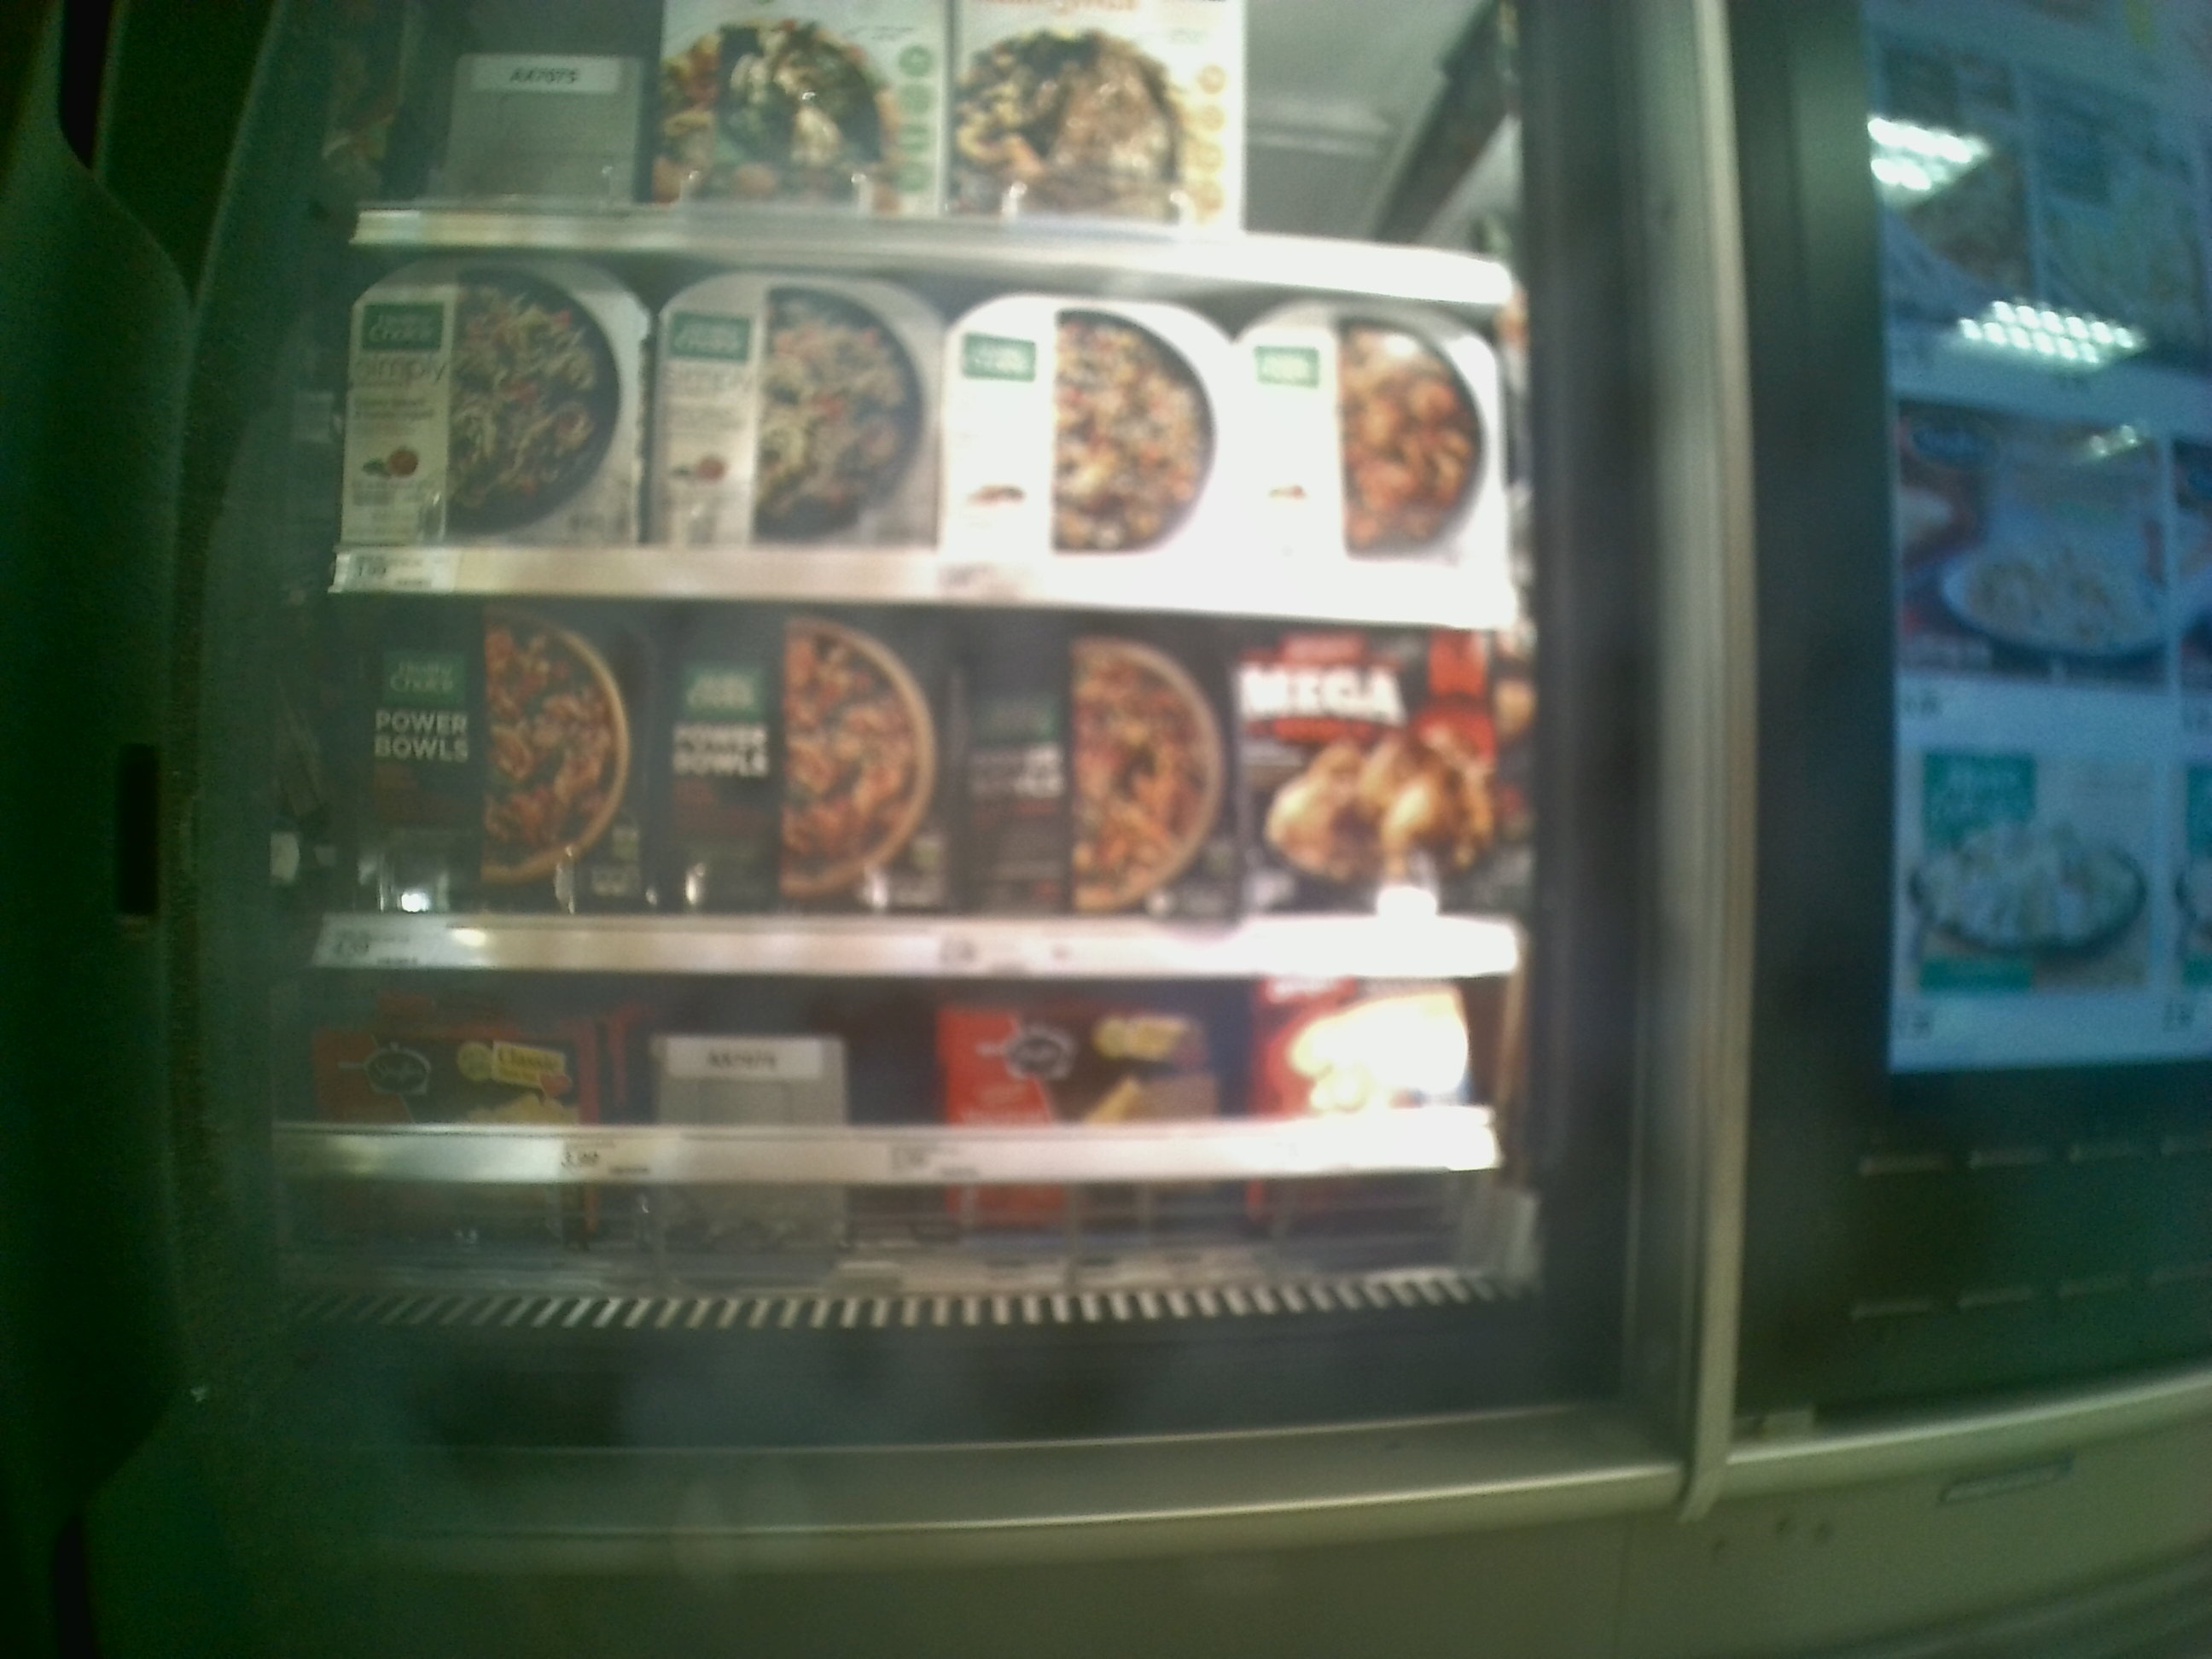shelf: (298, 239, 1531, 620), (319, 592, 1533, 967), (315, 962, 1526, 1272)
